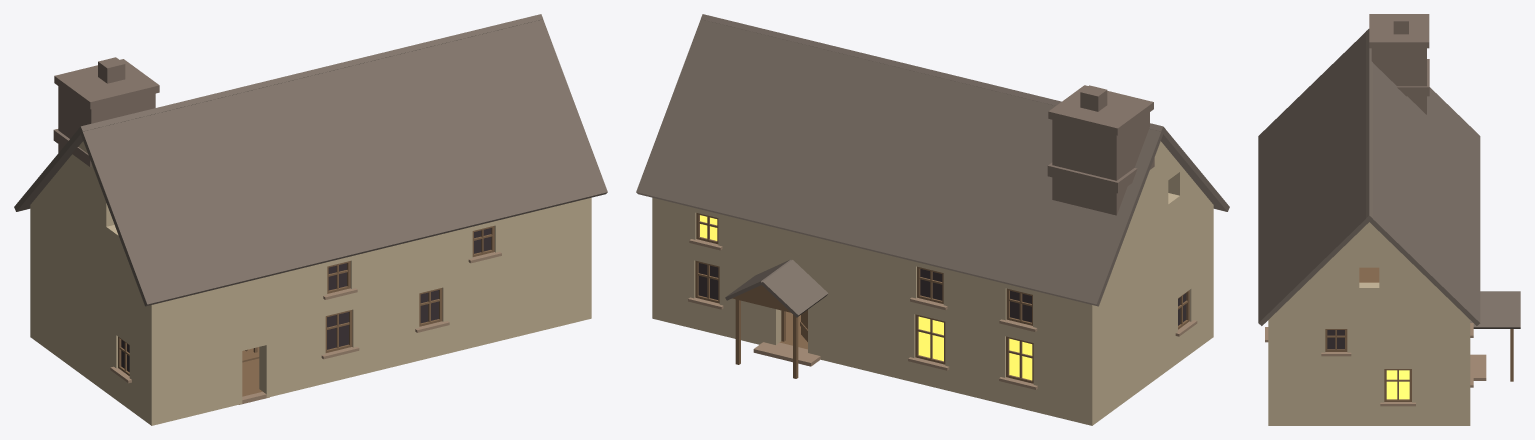
Rendered from farmhouse.glb.
3 renders of one model, left to right at view 1: azimuth 30°, elevation 25°; view 2: azimuth 150°, elevation 25°; view 3: azimuth 270°, elevation 25°, orthographic. The views are drawn at different scales.
Parts seen in each view (by area): view 1: Mesh_Roof_positive, Mesh_House_back_left, Mesh_House_right_Panel17, Mesh_House_right_Panel1, Mesh_House_right_Panel11, Mesh_House_right_Panel3, Mesh_House_Gable_negative, Mesh_Roof_negative, Mesh_House_right_Panel14, Mesh_Stack_Cap, Mesh_House_back_right, Mesh_Stack_Shaft (+12 smaller); view 2: Mesh_Roof_negative, Mesh_House_left_Panel17, Mesh_House_back_left, Mesh_House_left_Panel9, Mesh_House_left_Panel1, Mesh_Stack_Shaft, Mesh_House_left_Panel19, Mesh_House_Gable_negative, Mesh_House_left_Panel27, Mesh_Roof_positive, Mesh_Stack_Cap, Mesh_House_back_right (+16 smaller); view 3: Mesh_Roof_positive, Mesh_Roof_negative, Mesh_House_Gable_positive, Mesh_House_front_Panel1, Mesh_House_front_Panel7, Mesh_House_front_Panel4, Mesh_Stack_Shaft, Mesh_Stack_Cap, Mesh_House_front_Panel3, Mesh_House_front_Panel5, Mesh_Porch_SlopeB, Mesh_House_CornerES (+9 smaller).
Part boxes in pixels (<box>): Mesh_Roof_positive: <box>78,19,607,306</box>; Mesh_House_back_left: <box>34,200,117,399</box>; Mesh_House_right_Panel17: <box>494,199,585,341</box>; Mesh_House_right_Panel1: <box>158,283,242,424</box>; Mesh_House_right_Panel11: <box>352,240,419,376</box>; Mesh_House_right_Panel3: <box>259,262,325,397</box>; Mesh_House_Gable_negative: <box>34,141,131,271</box>; Mesh_Roof_negative: <box>14,14,542,211</box>; Mesh_House_right_Panel14: <box>442,226,472,354</box>; Mesh_Stack_Cap: <box>54,59,159,109</box>; Mesh_House_back_right: <box>129,271,147,422</box>; Mesh_Stack_Shaft: <box>58,86,155,152</box>; Mesh_Roof_negative: <box>636,19,1165,306</box>; Mesh_House_left_Panel17: <box>808,235,915,382</box>; Mesh_House_back_left: <box>1096,224,1177,422</box>; Mesh_House_left_Panel9: <box>945,269,1005,404</box>; Mesh_House_left_Panel1: <box>1033,291,1085,424</box>; Mesh_Stack_Shaft: <box>1052,112,1149,215</box>; Mesh_House_left_Panel19: <box>719,214,781,344</box>; Mesh_House_Gable_negative: <box>1112,141,1209,271</box>; Mesh_House_left_Panel27: <box>658,199,695,328</box>; Mesh_Roof_positive: <box>701,14,1229,211</box>; Mesh_Stack_Cap: <box>1048,85,1153,135</box>; Mesh_House_back_right: <box>1189,200,1209,352</box>; Mesh_Roof_positive: <box>1258,32,1372,325</box>; Mesh_Roof_negative: <box>1366,29,1480,325</box>; Mesh_House_Gable_positive: <box>1279,222,1459,309</box>; Mesh_House_front_Panel1: <box>1412,310,1464,425</box>; Mesh_House_front_Panel7: <box>1274,310,1325,425</box>; Mesh_House_front_Panel4: <box>1347,310,1384,425</box>; Mesh_Stack_Shaft: <box>1371,48,1426,114</box>; Mesh_Stack_Cap: <box>1369,14,1429,48</box>; Mesh_House_front_Panel3: <box>1384,310,1411,368</box>; Mesh_House_front_Panel5: <box>1325,356,1347,425</box>; Mesh_Porch_SlopeB: <box>1470,292,1520,328</box>; Mesh_House_CornerES: <box>1458,310,1470,425</box>.
Bounding box in the file's own units: 20.05 × 12.3 × 11.87.
